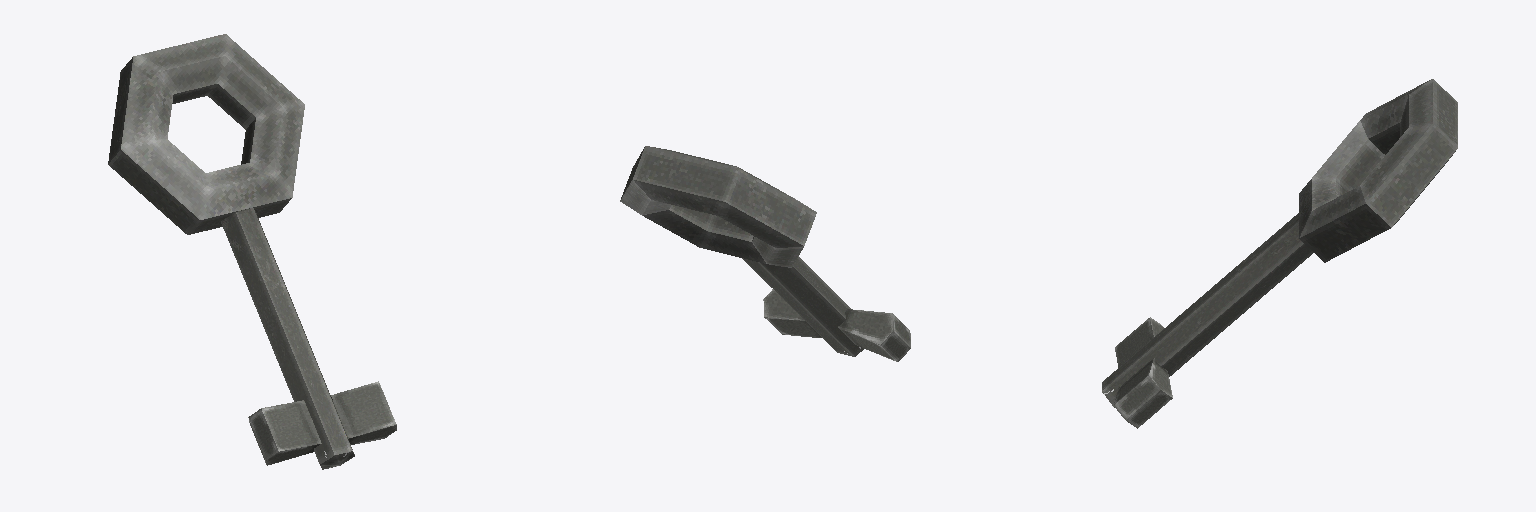
3 renders of one model, left to right at view 1: azimuth 30°, elevation 25°; view 2: azimuth 150°, elevation 25°; view 3: azimuth 270°, elevation 25°, orthographic.
Visible parts, largest first — view 1: Circle.016_Circle.017; view 2: Circle.016_Circle.017; view 3: Circle.016_Circle.017.
Part boxes in pixels (x1,y1,x2,y2): Circle.016_Circle.017: (108, 34, 396, 469); Circle.016_Circle.017: (620, 146, 910, 361); Circle.016_Circle.017: (1102, 79, 1457, 428).
Bounding box in the file's own units: 0.2805 × 0.4507 × 0.4701.
Materials: 1 (1 with a texture image).